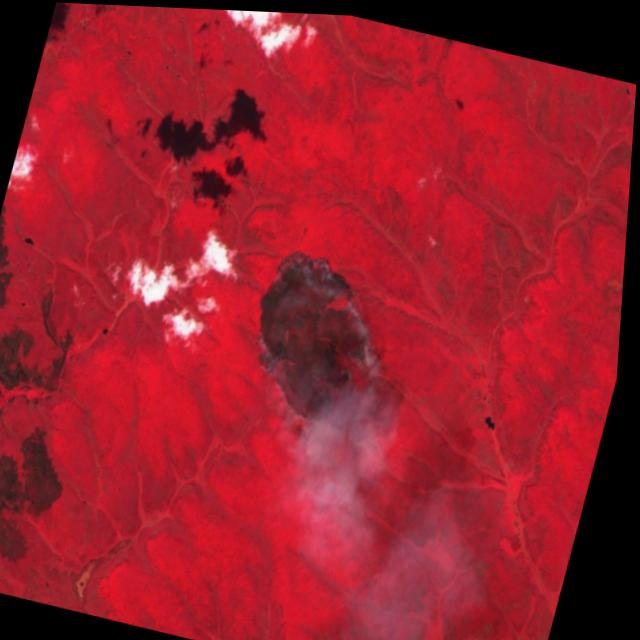fire: (232, 232, 402, 438)
